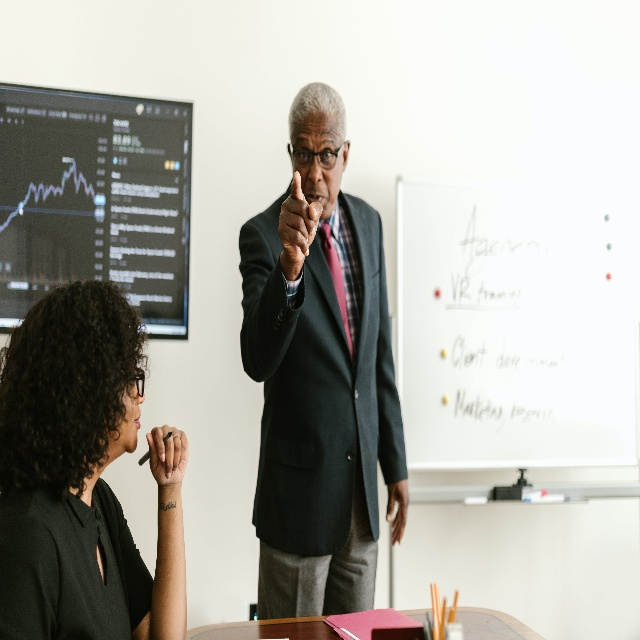Sin_guantes: (278, 171, 322, 260), (146, 423, 191, 485), (386, 483, 409, 547)
